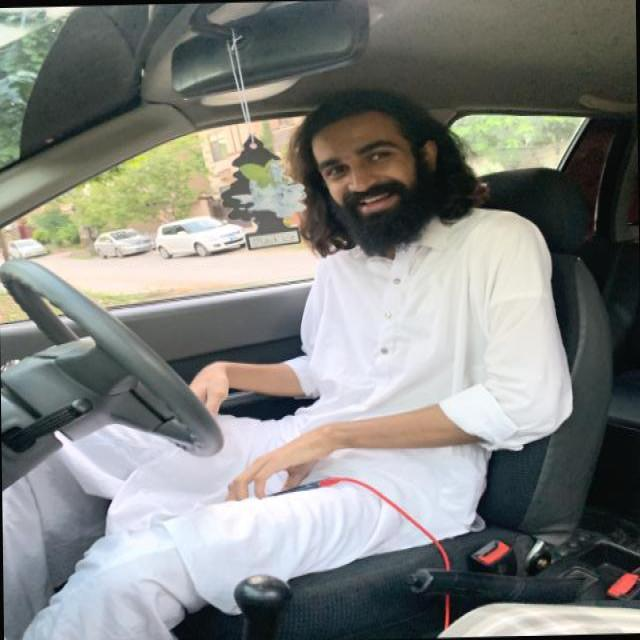no-seatbelt: (215, 214, 570, 608)
